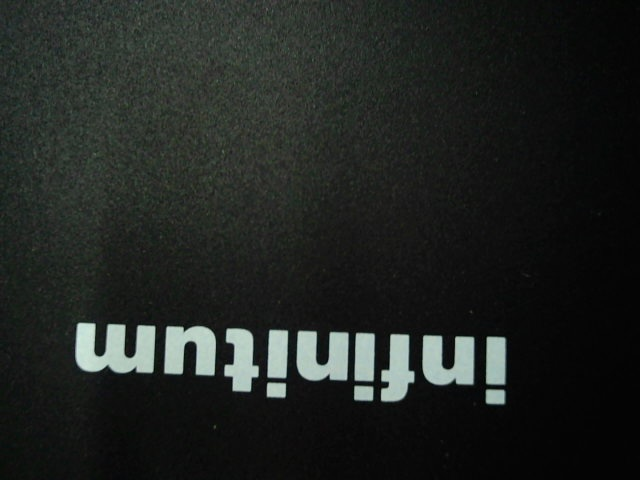BK_infinitum: (62, 310, 513, 407)
